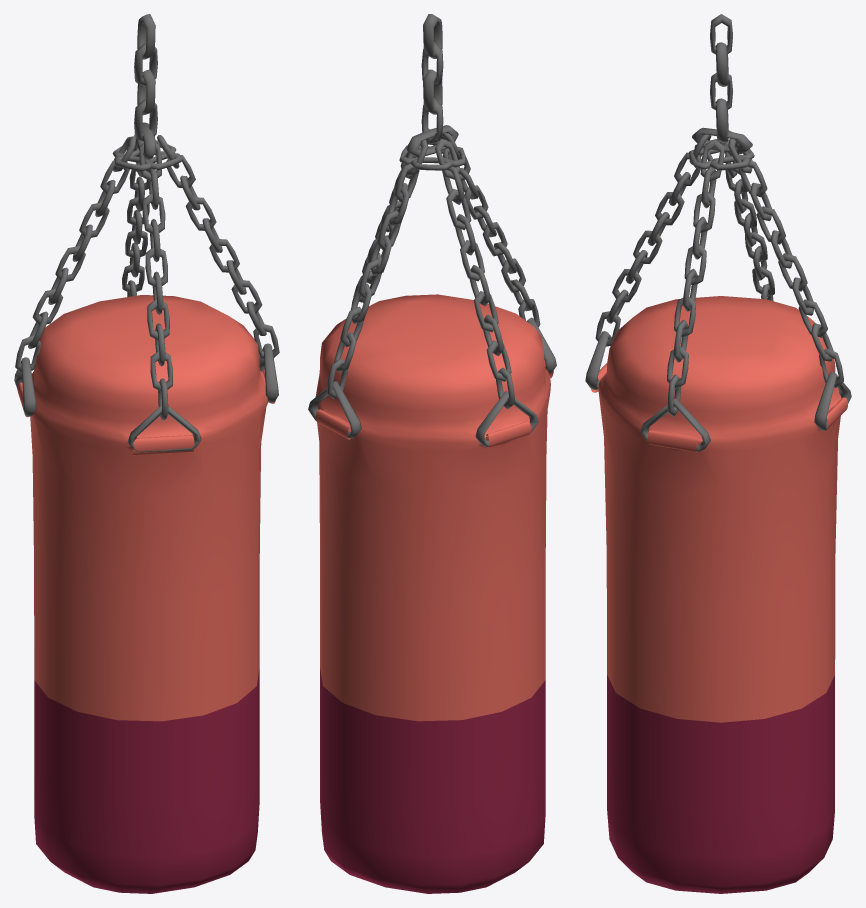
Rendered from Saco_boxeo.fbx.
The picture shows the model from 3 angles, left to right: view 1: azimuth 30°, elevation 25°; view 2: azimuth 150°, elevation 25°; view 3: azimuth 270°, elevation 25°; orthographic projection.
Parts seen in each view (by area): view 1: Cylinder, Cylinder.001; view 2: Cylinder, Cylinder.001; view 3: Cylinder, Cylinder.001.
Boxes of the visible parts, x1,y1,x2,y2 form: Cylinder: [17, 295, 275, 893]; Cylinder.001: [14, 14, 279, 452]; Cylinder: [315, 294, 553, 893]; Cylinder.001: [308, 14, 556, 446]; Cylinder: [590, 296, 847, 893]; Cylinder.001: [585, 14, 851, 451].
Size of the model in its own units: 210 by 739 by 211.
